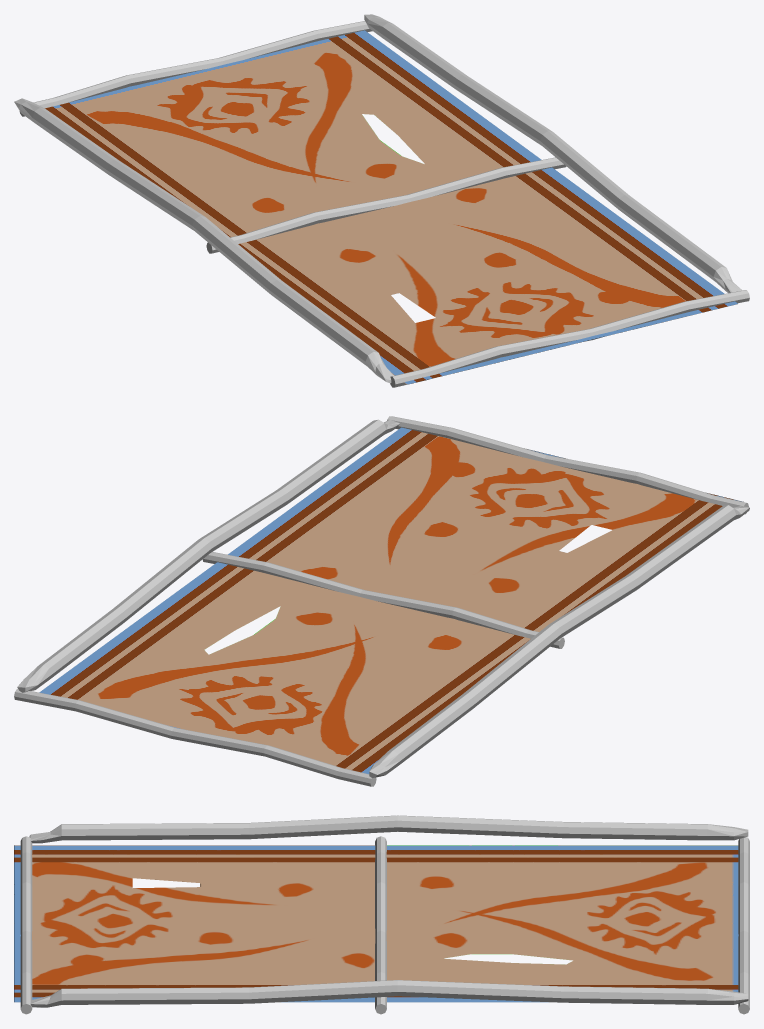
The model's file is SM_ornament_rack.fbx.
The picture shows the model from 3 angles, top to bottom: view 1: azimuth 30°, elevation 25°; view 2: azimuth 150°, elevation 25°; view 3: azimuth 270°, elevation 25°; orthographic projection. The views are drawn at different scales.
Parts seen in each view (by area): view 1: ornament_rack; view 2: ornament_rack; view 3: ornament_rack.
Boxes of the visible parts, x1,y1,x2,y2 form: ornament_rack: (14, 14, 749, 387); ornament_rack: (14, 416, 749, 786); ornament_rack: (14, 815, 749, 1014).
Bounding box in the file's own units: 242 × 20.66 × 437.
